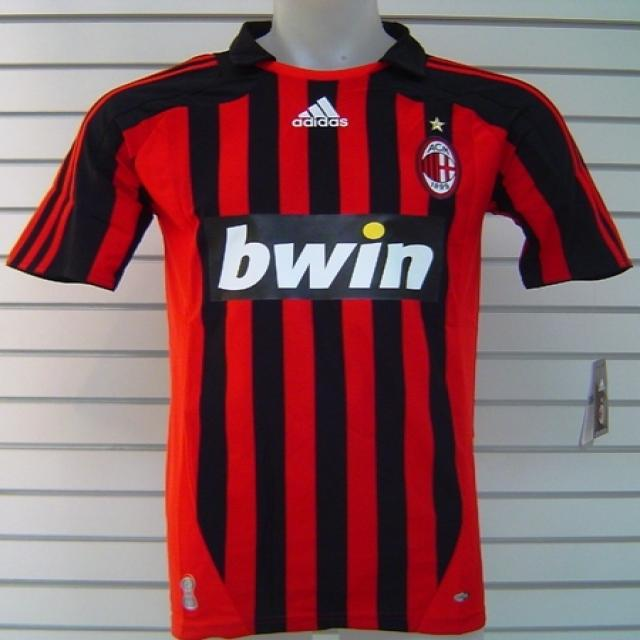T-shirt: (7, 20, 629, 640)
